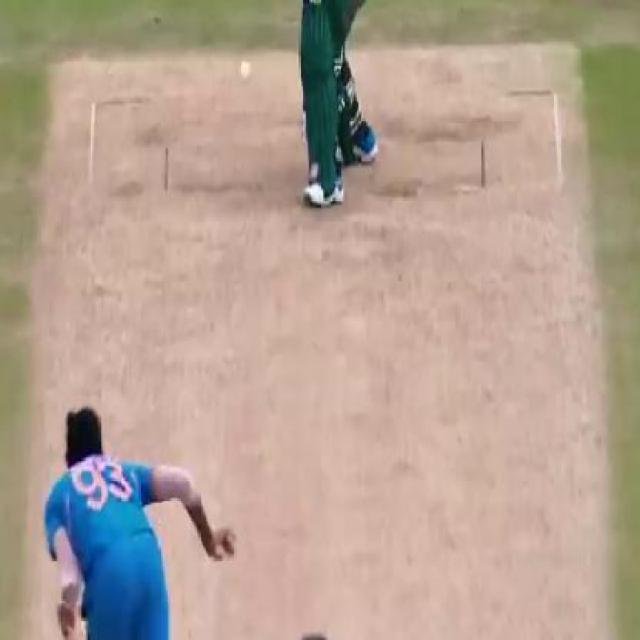Cricket ball: (236, 57, 254, 85)
